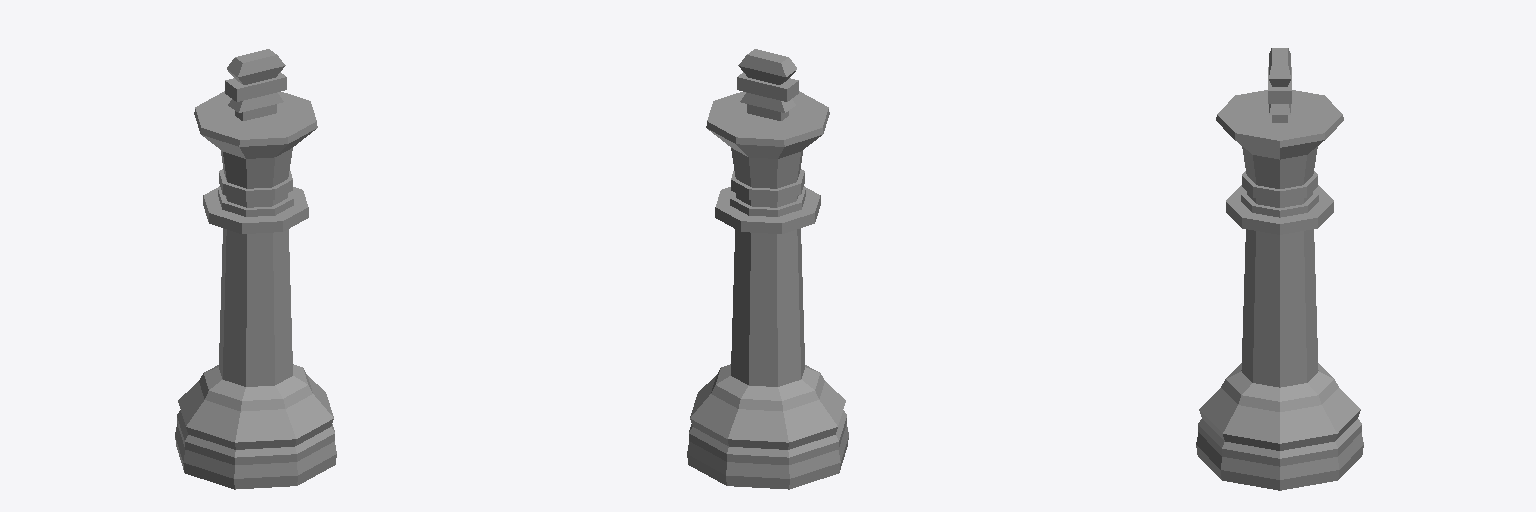
The model's file is King.obj.
3 views of the same model, side by side, from view 1: azimuth 30°, elevation 25°; view 2: azimuth 150°, elevation 25°; view 3: azimuth 270°, elevation 25° (orthographic).
Visible parts, largest first — view 1: Black_King_Cylinder.011; view 2: Black_King_Cylinder.011; view 3: Black_King_Cylinder.011.
Part boxes in pixels (x1,y1,x2,y2): Black_King_Cylinder.011: (175,49,336,489); Black_King_Cylinder.011: (687,49,848,489); Black_King_Cylinder.011: (1196,48,1363,490).
Bounding box in the file's own units: 4.68 × 12.3 × 4.68.